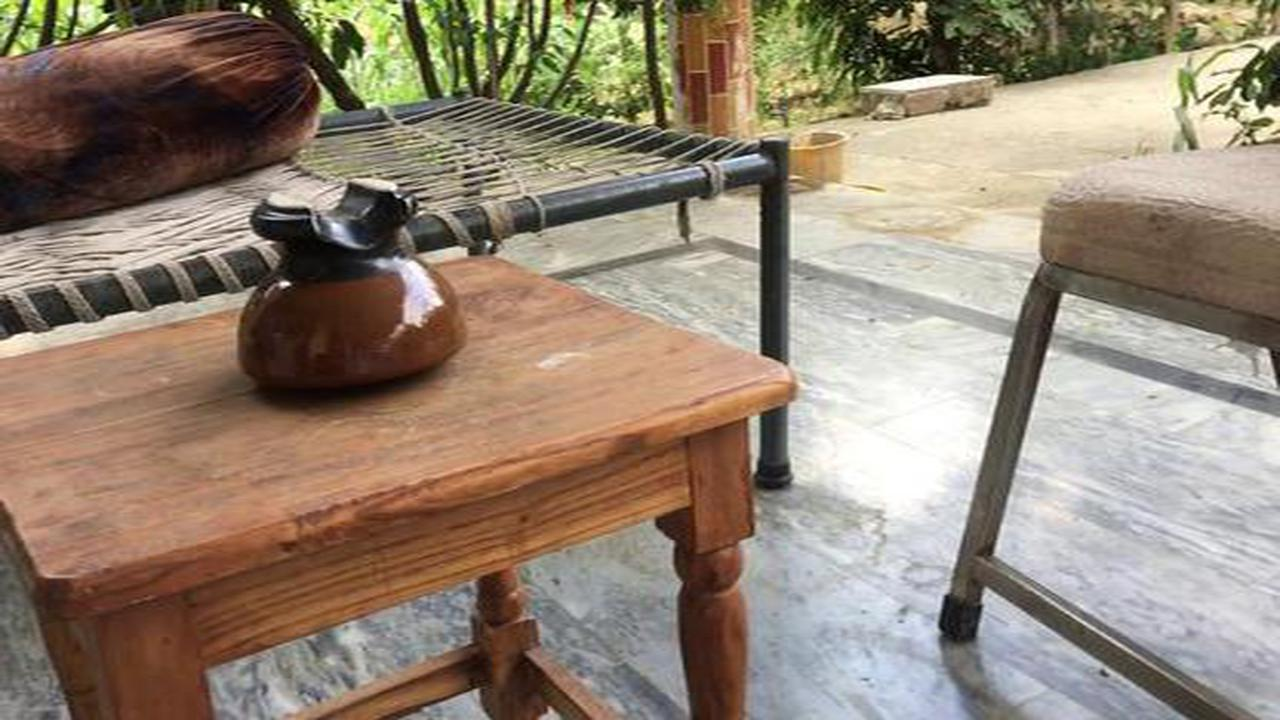insulator_pin: (216, 166, 477, 407)
